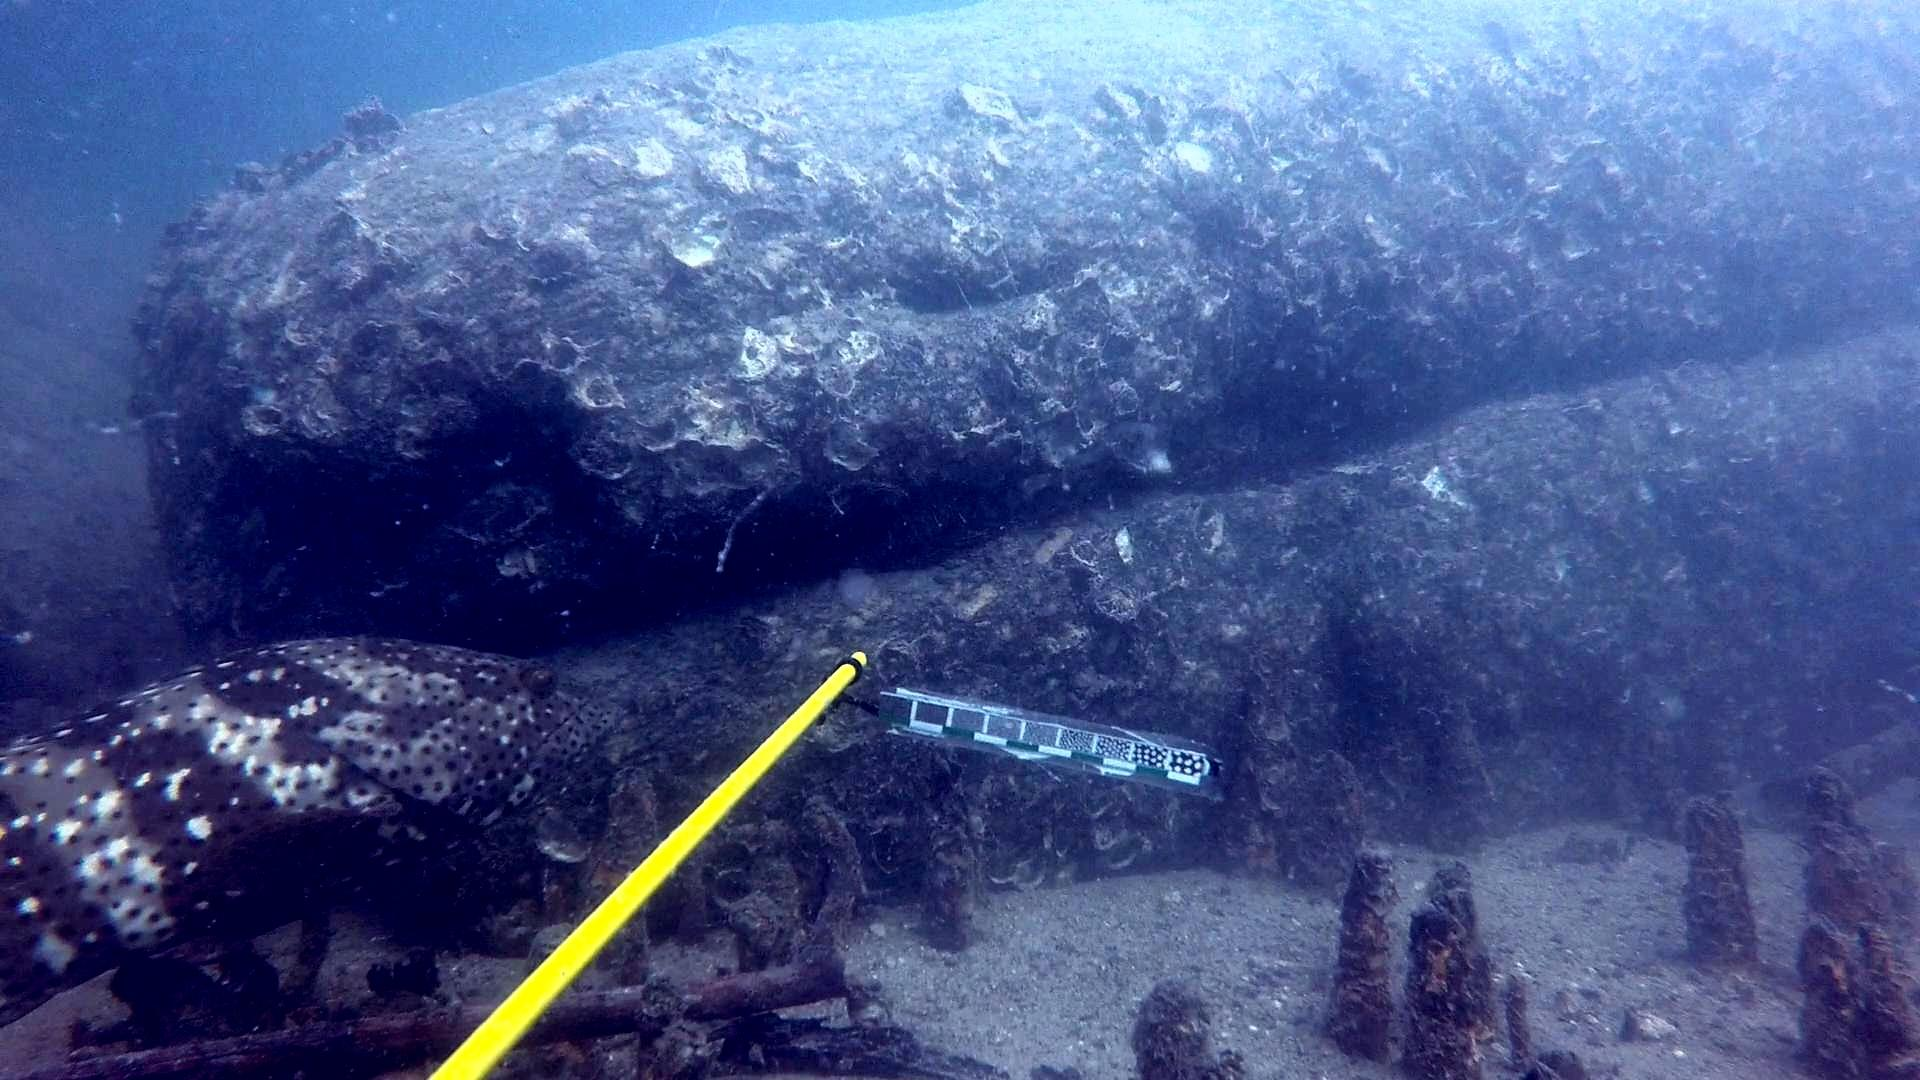epinephelus: (0, 633, 637, 1040)
